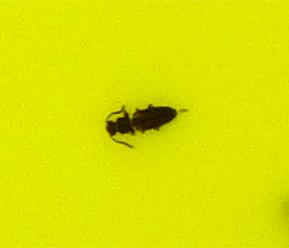Coleoptera: (100, 100, 189, 148)
